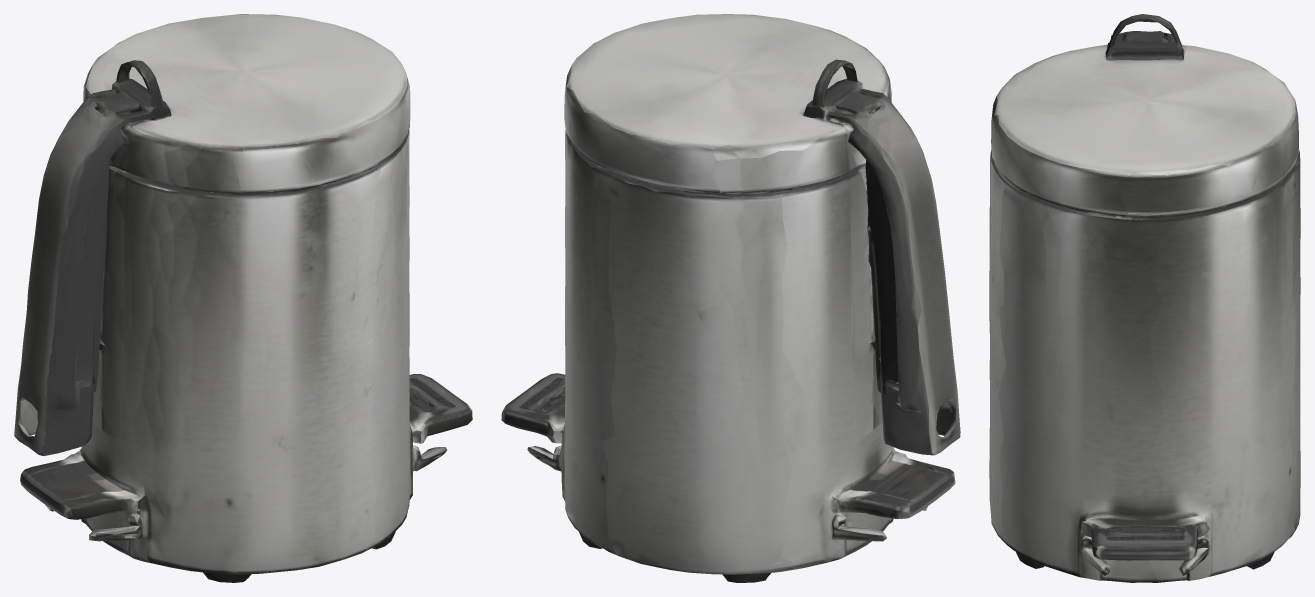
The model's file is mundane_trash_bin.glb.
3 renders of one model, left to right at view 1: azimuth 30°, elevation 25°; view 2: azimuth 150°, elevation 25°; view 3: azimuth 270°, elevation 25°, orthographic. The views are drawn at different scales.
Parts seen in each view (by area): view 1: geometry_0; view 2: geometry_0; view 3: geometry_0.
Part boxes in pixels (bbox=[...]): geometry_0: bbox=[14, 14, 472, 582]; geometry_0: bbox=[501, 14, 960, 582]; geometry_0: bbox=[989, 14, 1300, 582].
Size of the model in its own units: 0.4163 by 0.45 by 0.2746.
1 material, 1 textured.
